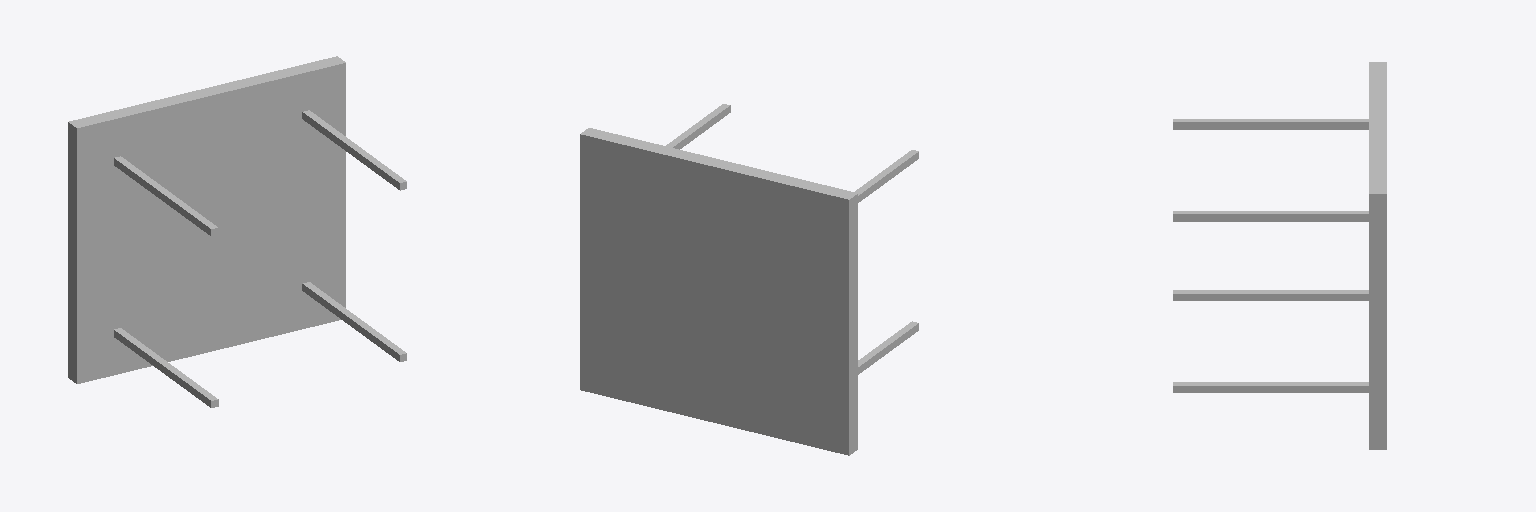
The model's file is random_table57.obj.
The picture shows the model from 3 angles: view 1: azimuth 30°, elevation 25°; view 2: azimuth 150°, elevation 25°; view 3: azimuth 270°, elevation 25°; orthographic projection.
Parts seen in each view (by area): view 1: Table_Cube.1350, TableLeg3_Cube.1354, TableLeg0_Cube.1351, TableLeg1_Cube.1352, TableLeg2_Cube.1353; view 2: Table_Cube.1350, TableLeg1_Cube.1352, TableLeg3_Cube.1354, TableLeg0_Cube.1351; view 3: Table_Cube.1350, TableLeg0_Cube.1351, TableLeg1_Cube.1352, TableLeg2_Cube.1353, TableLeg3_Cube.1354.
Boxes of the visible parts, x1=… form: Table_Cube.1350: x1=68, y1=56, x2=345, y2=383; TableLeg3_Cube.1354: x1=114, y1=328, x2=218, y2=407; TableLeg0_Cube.1351: x1=302, y1=110, x2=406, y2=190; TableLeg1_Cube.1352: x1=114, y1=156, x2=218, y2=236; TableLeg2_Cube.1353: x1=302, y1=282, x2=406, y2=361; Table_Cube.1350: x1=580, y1=128, x2=857, y2=455; TableLeg1_Cube.1352: x1=855, y1=150, x2=918, y2=202; TableLeg3_Cube.1354: x1=858, y1=321, x2=918, y2=374; TableLeg0_Cube.1351: x1=666, y1=104, x2=730, y2=149; Table_Cube.1350: x1=1369, y1=62, x2=1386, y2=449; TableLeg0_Cube.1351: x1=1173, y1=211, x2=1368, y2=221; TableLeg1_Cube.1352: x1=1173, y1=119, x2=1368, y2=129; TableLeg2_Cube.1353: x1=1173, y1=382, x2=1368, y2=392; TableLeg3_Cube.1354: x1=1173, y1=290, x2=1368, y2=300.
Bounding box in the file's own units: 7.04 × 6.4 × 4.83.